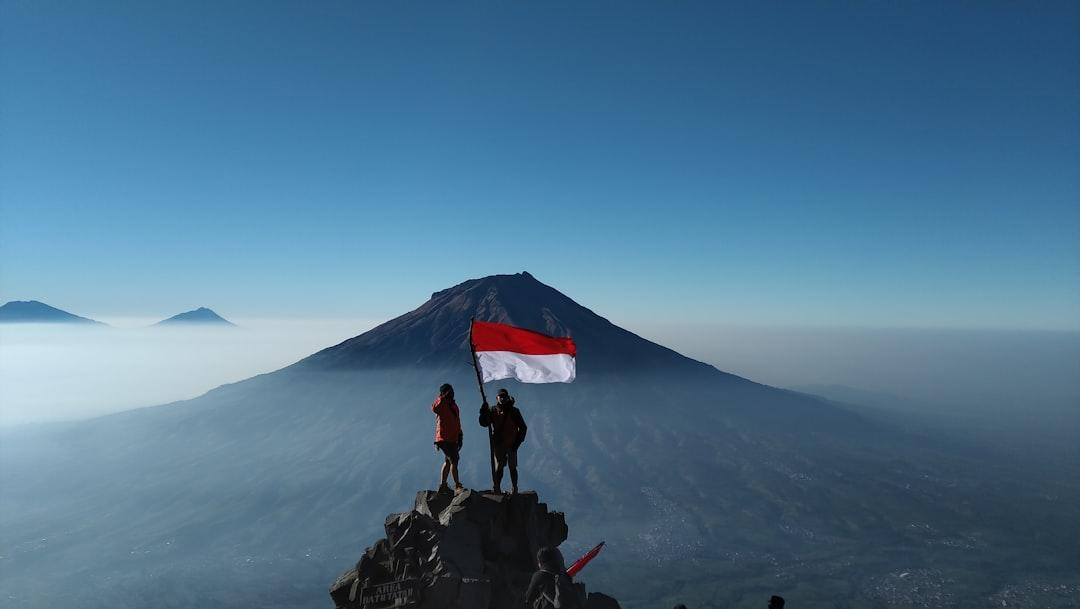Indonesia: (465, 318, 582, 388)
